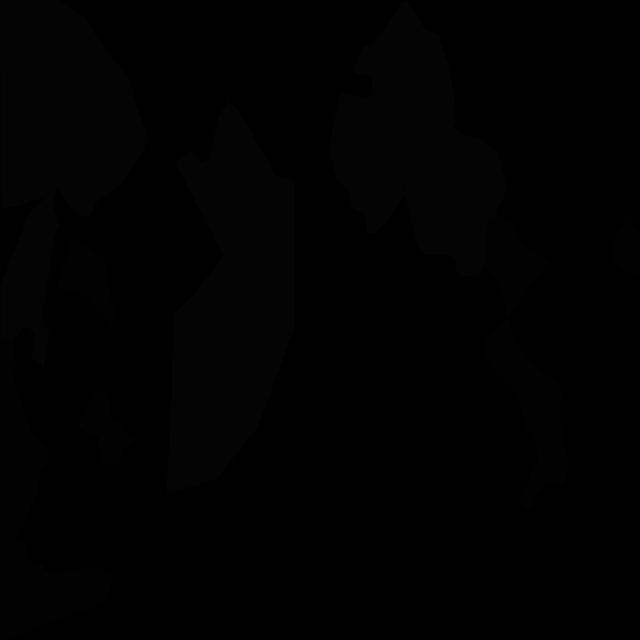cardboard: (480, 319, 568, 512), (0, 337, 50, 573), (0, 540, 115, 640), (486, 215, 551, 319), (56, 236, 115, 336), (78, 390, 138, 467), (610, 214, 640, 288)
soft_plastic: (0, 0, 148, 368), (166, 101, 295, 493), (330, 0, 456, 234), (399, 97, 508, 276)
